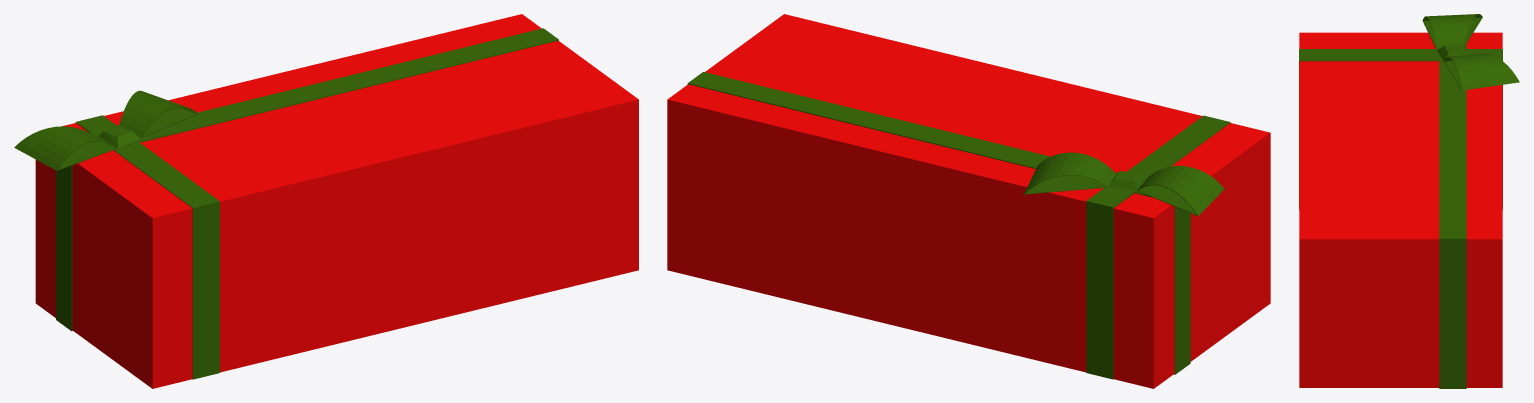
File: Prop_Christmas_Present_Red_03.FBX
The picture shows the model from 3 angles, left to right: view 1: azimuth 30°, elevation 25°; view 2: azimuth 150°, elevation 25°; view 3: azimuth 270°, elevation 25°; orthographic projection. The views are drawn at different scales.
Parts seen in each view (by area): view 1: Prop_Christmas_Present_Red_03; view 2: Prop_Christmas_Present_Red_03; view 3: Prop_Christmas_Present_Red_03.
Boxes of the visible parts, left/top/right/bottom form: Prop_Christmas_Present_Red_03: left=14, top=14, right=638, bottom=388; Prop_Christmas_Present_Red_03: left=667, top=14, right=1270, bottom=388; Prop_Christmas_Present_Red_03: left=1299, top=14, right=1519, bottom=388.
Bounding box in the file's own units: 852 × 298 × 360.
